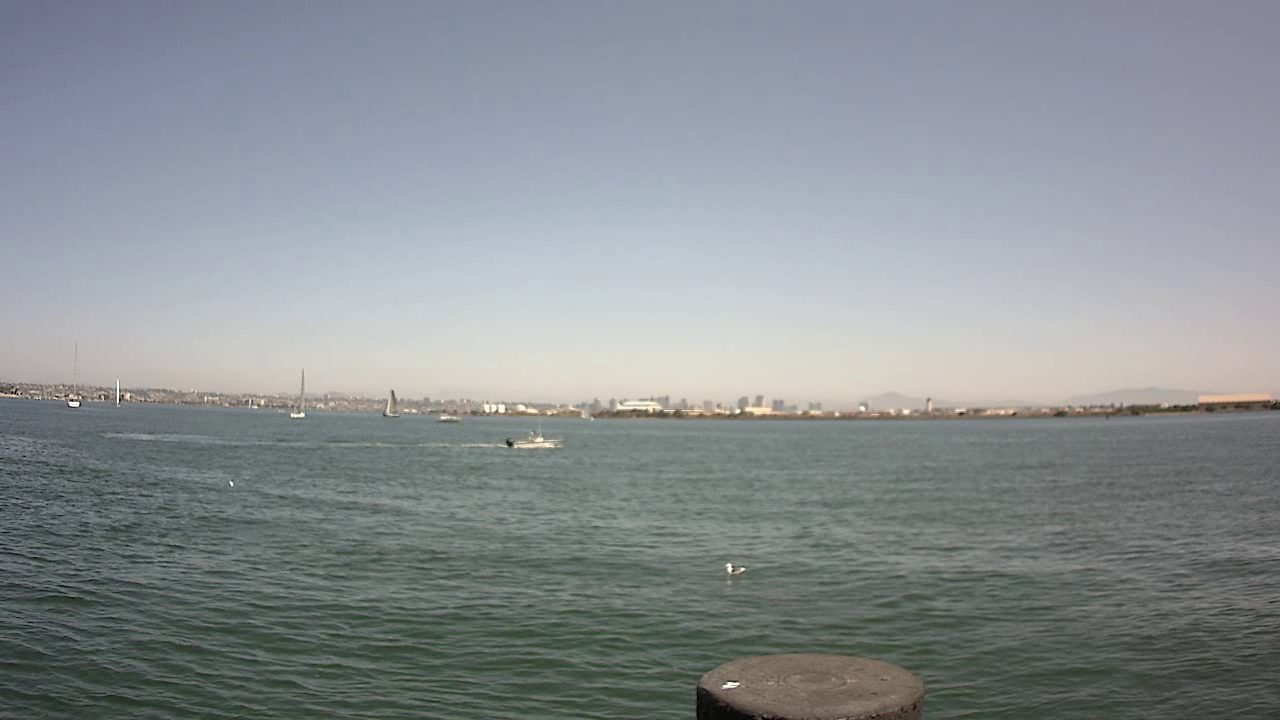target: (489, 420, 590, 458)
